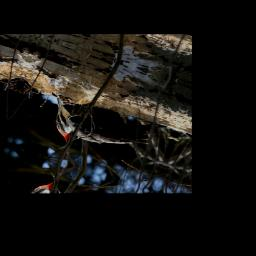Woodpecker: (44, 92, 171, 172)
